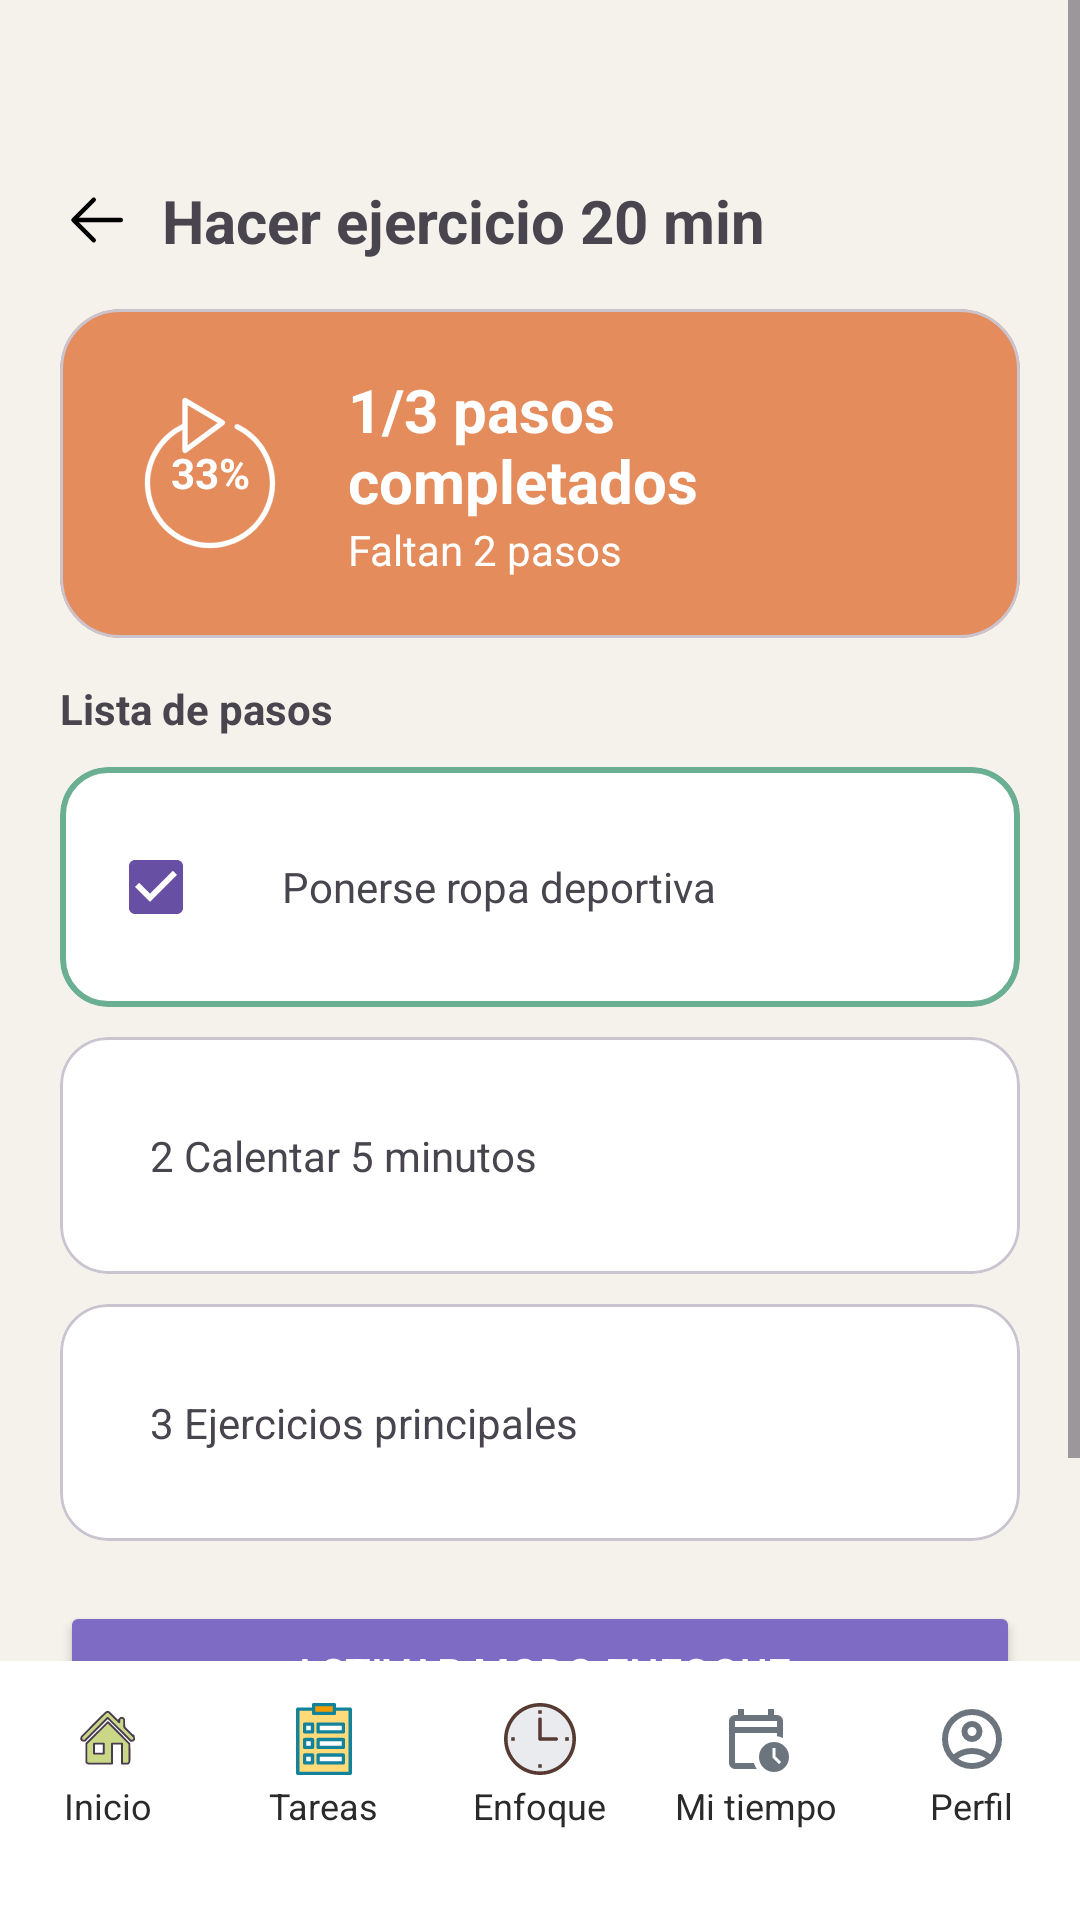

Named icons in this screenshot (1080 x 1920) and their centers, (x,y):
back: (97,220)
clock: (540,1739)
